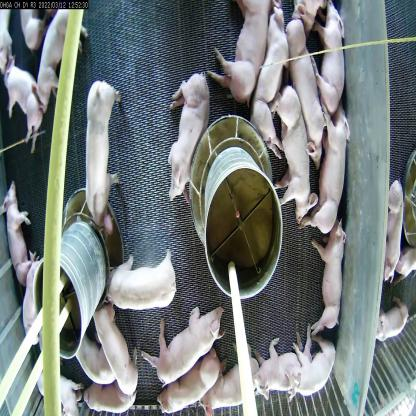Pig: (78, 76, 116, 242), (28, 3, 82, 114), (168, 63, 206, 205), (216, 0, 265, 104), (317, 105, 352, 249), (0, 51, 46, 158), (103, 254, 174, 320), (249, 20, 284, 152), (281, 329, 342, 402), (244, 325, 304, 399), (157, 302, 216, 375), (146, 356, 220, 414), (315, 0, 354, 102), (293, 11, 324, 132), (94, 296, 132, 392), (322, 224, 350, 342), (278, 97, 306, 206), (218, 357, 266, 411), (2, 178, 24, 286), (66, 334, 104, 350)
